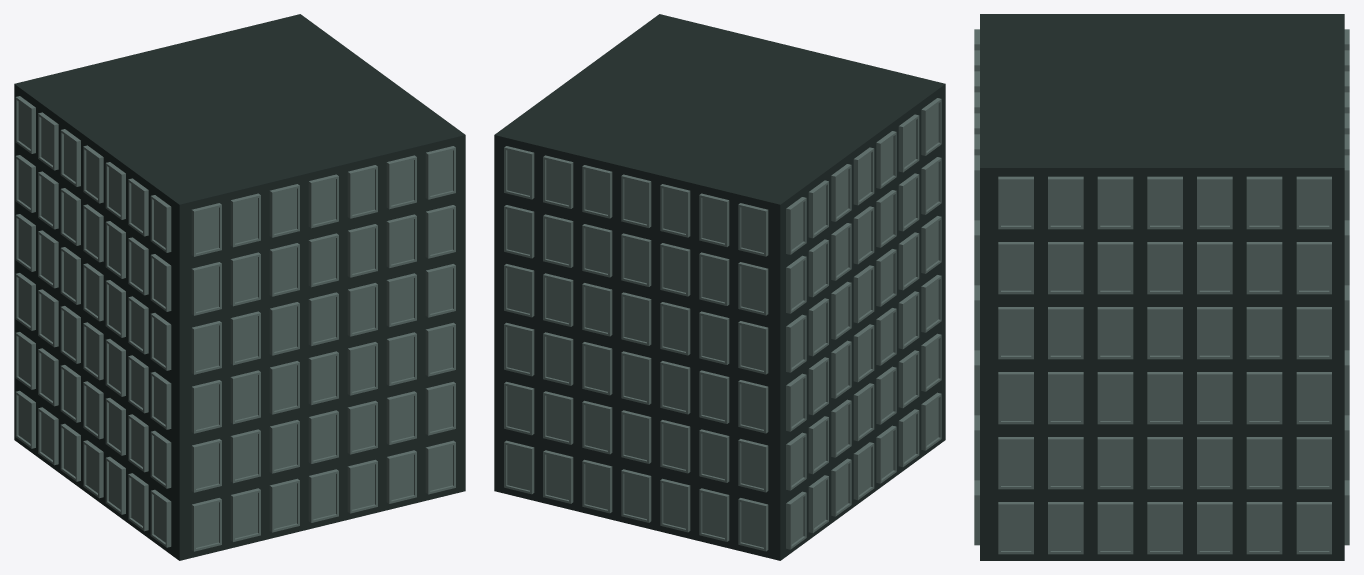
Rendered from bina_3.fbx.
3 renders of one model, left to right at view 1: azimuth 30°, elevation 25°; view 2: azimuth 150°, elevation 25°; view 3: azimuth 270°, elevation 25°, orthographic. The views are drawn at different scales.
Visible parts, largest first — view 1: bina_3; view 2: bina_3; view 3: bina_3.
Part boxes in pixels (left/top/right/bottom): bina_3: left=14, top=14, right=465, bottom=560; bina_3: left=494, top=14, right=945, bottom=560; bina_3: left=974, top=14, right=1349, bottom=560.
Bounding box in the file's own units: 308 × 355 × 307.
Materials: 1 (1 with a texture image).
